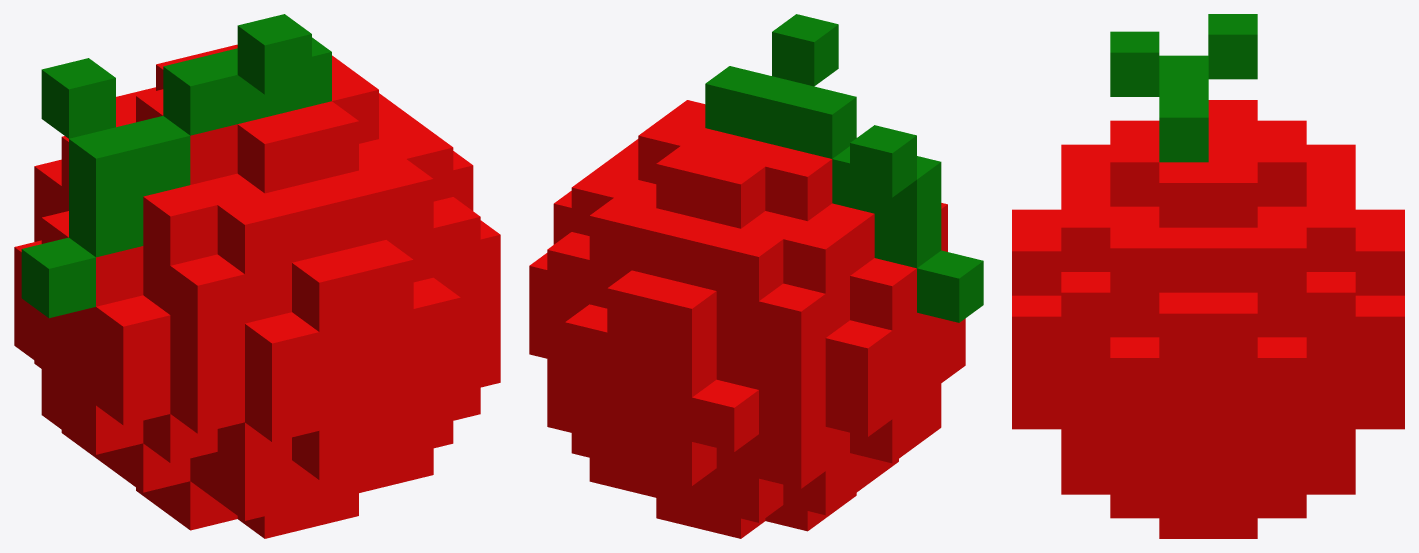
File: plant_tomato_f1.vox.obj
3 renders of one model, left to right at view 1: azimuth 30°, elevation 25°; view 2: azimuth 150°, elevation 25°; view 3: azimuth 270°, elevation 25°, orthographic. The views are drawn at different scales.
Bounding box in the file's own units: 0.9 × 1 × 0.8.
1 material, 1 textured.
